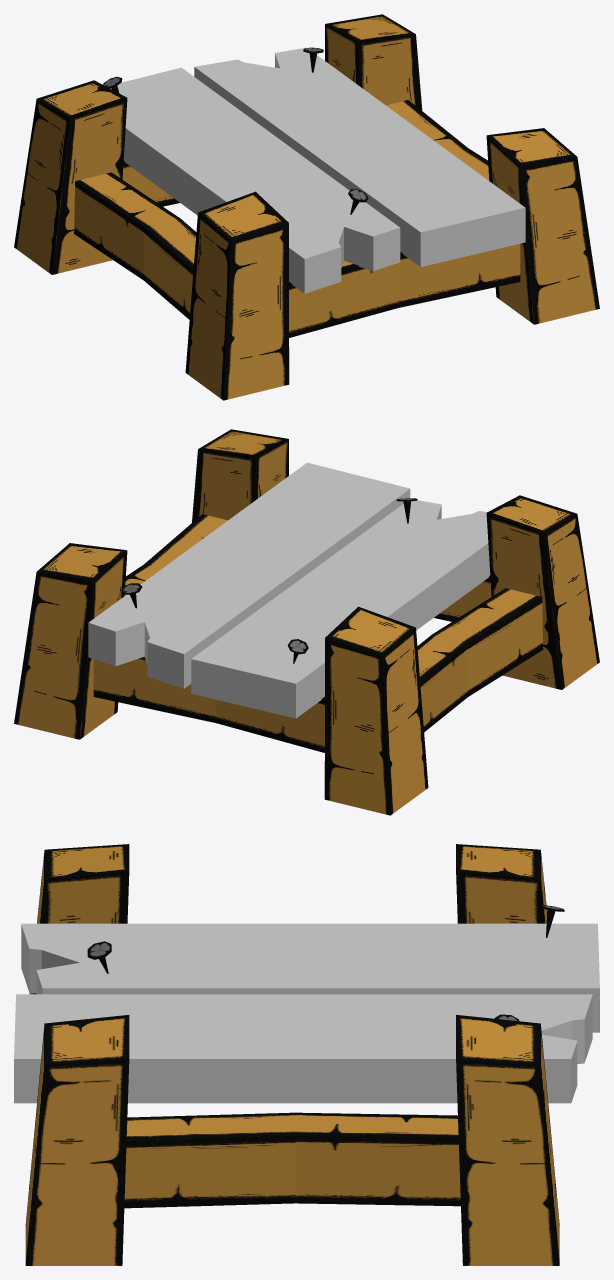
Rendered from tower_0.fbx.
The picture shows the model from 3 angles, top to bottom: view 1: azimuth 30°, elevation 25°; view 2: azimuth 150°, elevation 25°; view 3: azimuth 270°, elevation 25°; orthographic projection. The views are drawn at different scales.
Visible parts, largest first — view 1: tower_a; view 2: tower_a; view 3: tower_a.
Boxes of the visible parts, x1,y1,x2,y2 form: tower_a: (14, 14, 599, 400); tower_a: (14, 429, 599, 815); tower_a: (14, 844, 599, 1265).
Bounding box in the file's own units: 235 × 96.3 × 248.
